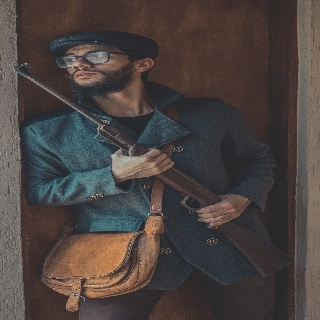rifle: (12, 60, 293, 281)
